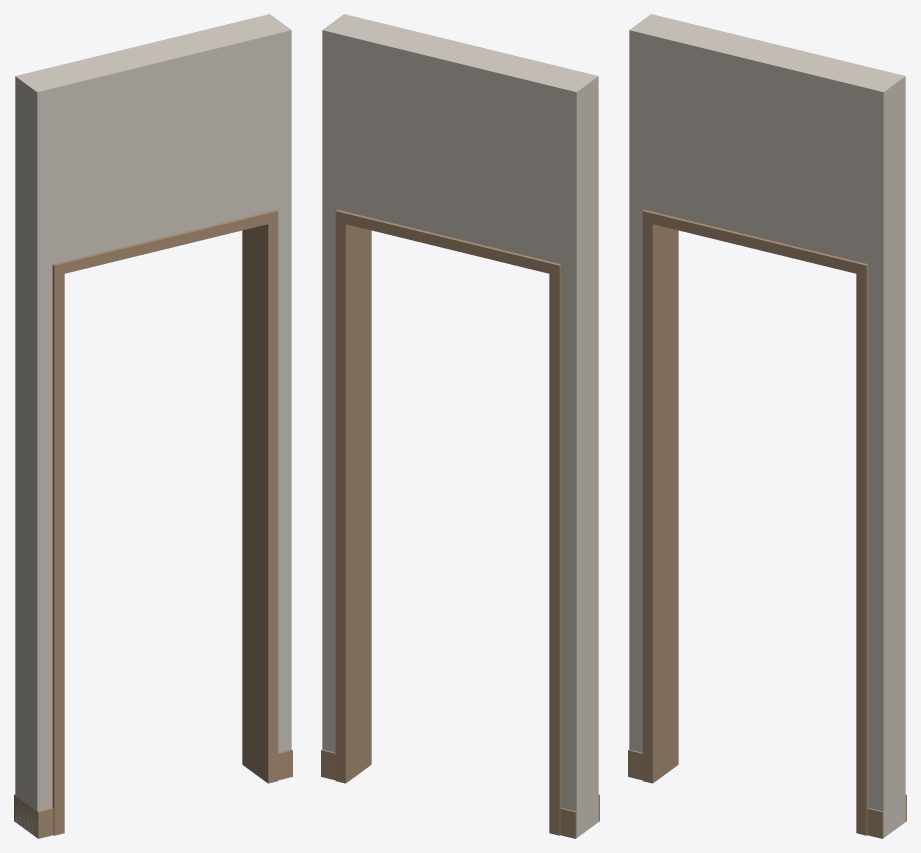
Rendered from environment_wall_door.glb.
3 renders of one model, left to right at view 1: azimuth 30°, elevation 25°; view 2: azimuth 150°, elevation 25°; view 3: azimuth 330°, elevation 25°, orthographic.
Visible parts, largest first — view 1: WallDoor; view 2: WallDoor; view 3: WallDoor.
Boxes of the visible parts, x1=… form: WallDoor: x1=14, y1=14, x2=292, y2=838; WallDoor: x1=321, y1=14, x2=599, y2=838; WallDoor: x1=628, y1=14, x2=906, y2=838.
Bounding box in the file's own units: 1 × 2.8 × 0.175.
